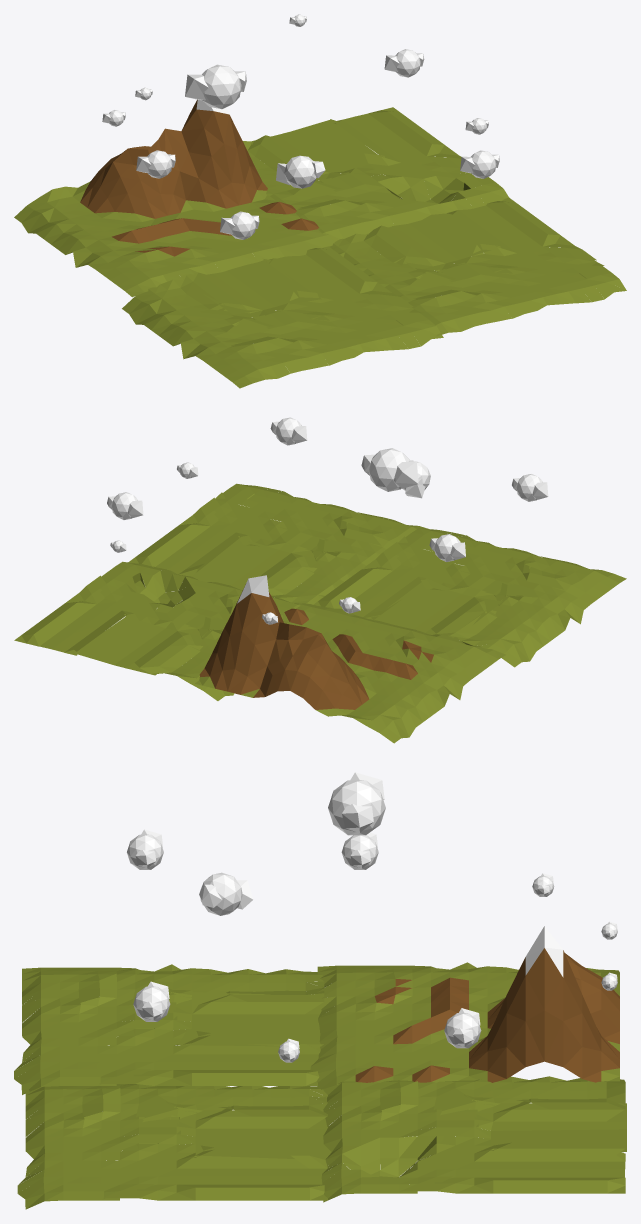
Rendered from the_bathroom_free.glb.
The picture shows the model from 3 angles, top to bottom: view 1: azimuth 30°, elevation 25°; view 2: azimuth 150°, elevation 25°; view 3: azimuth 270°, elevation 25°; orthographic projection. The views are drawn at different scales.
Parts seen in each view (by area): view 1: Terreno.001_56, Terreno_47, Icosphere.001_40, Icosphere.002_43; view 2: Terreno.001_56, Terreno_47, Icosphere.001_40, Icosphere.002_43; view 3: Terreno.001_56, Terreno_47, Icosphere.001_40, Icosphere.002_43.
Part boxes in pixels (x1,y1,x2,y2): Terreno.001_56: (122,107,626,388); Terreno_47: (14,99,334,297); Icosphere.001_40: (136,49,499,239); Icosphere.002_43: (102,110,488,134); Terreno.001_56: (14,483,626,700); Terreno_47: (195,575,505,743); Icosphere.001_40: (107,417,548,561); Icosphere.002_43: (177,462,360,613); Terreno.001_56: (14,964,626,1209); Terreno_47: (310,926,619,1089); Icosphere.001_40: (127,772,481,1048); Icosphere.002_43: (278,873,554,1062).
Size of the model in its own units: 54.09 by 27.49 by 56.89.
